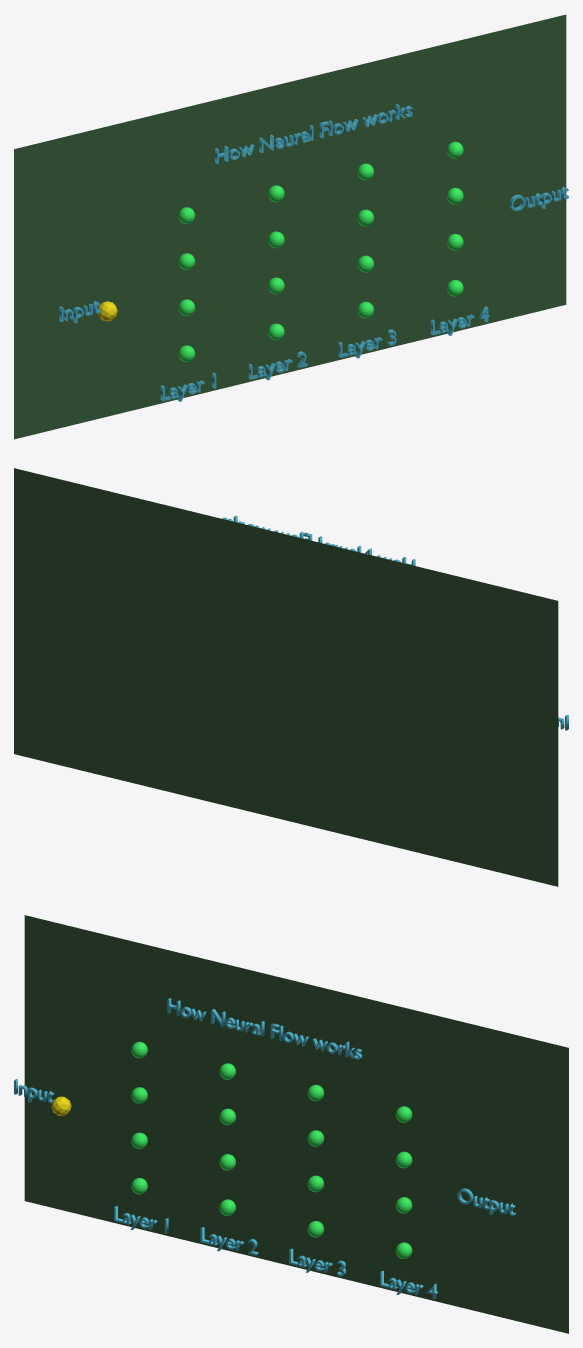
3 views of the same model, one above another, from view 1: azimuth 30°, elevation 25°; view 2: azimuth 150°, elevation 25°; view 3: azimuth 330°, elevation 25° (orthographic).
Parts seen in each view (by area): view 1: Plane, Text, Text.006, Text.002, Text.003, Text.004, Text.001; view 2: Plane; view 3: Plane, Text, Text.006, Text.003, Text.002, Text.004.
Part boxes in pixels (x1=…): Plane: x1=14, y1=14, x2=566, y2=439; Text: x1=215, y1=104, x2=412, y2=163; Text.006: x1=509, y1=186, x2=568, y2=210; Text.002: x1=248, y1=351, x2=307, y2=380; Text.003: x1=338, y1=329, x2=396, y2=358; Text.004: x1=430, y1=306, x2=489, y2=335; Text.001: x1=160, y1=373, x2=216, y2=401; Plane: x1=14, y1=468, x2=558, y2=886; Plane: x1=24, y1=915, x2=568, y2=1333; Text: x1=167, y1=998, x2=362, y2=1059; Text.006: x1=457, y1=1188, x2=515, y2=1215; Text.003: x1=289, y1=1248, x2=346, y2=1276; Text.002: x1=200, y1=1227, x2=258, y2=1255; Text.004: x1=380, y1=1270, x2=437, y2=1299.
Size of the model in its own units: 28.25 by 14.19 by 2.95.
